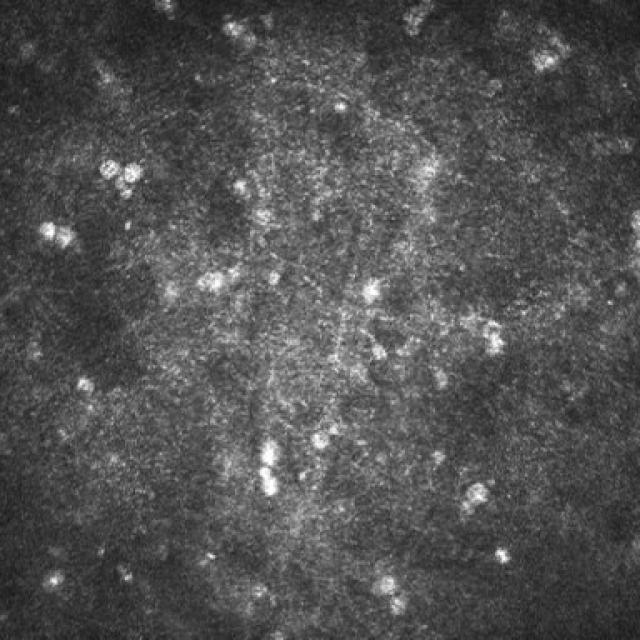anomalie: (526, 40, 564, 80), (193, 266, 230, 296), (257, 436, 287, 471), (217, 12, 249, 43), (386, 586, 415, 620), (228, 170, 257, 204), (482, 328, 511, 362), (359, 275, 387, 308), (40, 568, 70, 598), (53, 223, 82, 251), (370, 573, 399, 600), (255, 263, 283, 290), (307, 426, 333, 454), (466, 479, 492, 507), (456, 498, 478, 530), (120, 160, 148, 185), (258, 476, 286, 501), (490, 542, 515, 568), (431, 364, 454, 392), (98, 158, 123, 182), (75, 374, 97, 401), (36, 218, 58, 244), (332, 96, 354, 118), (369, 341, 390, 364), (430, 443, 447, 471), (113, 174, 130, 194), (117, 184, 135, 202), (255, 466, 273, 482)
